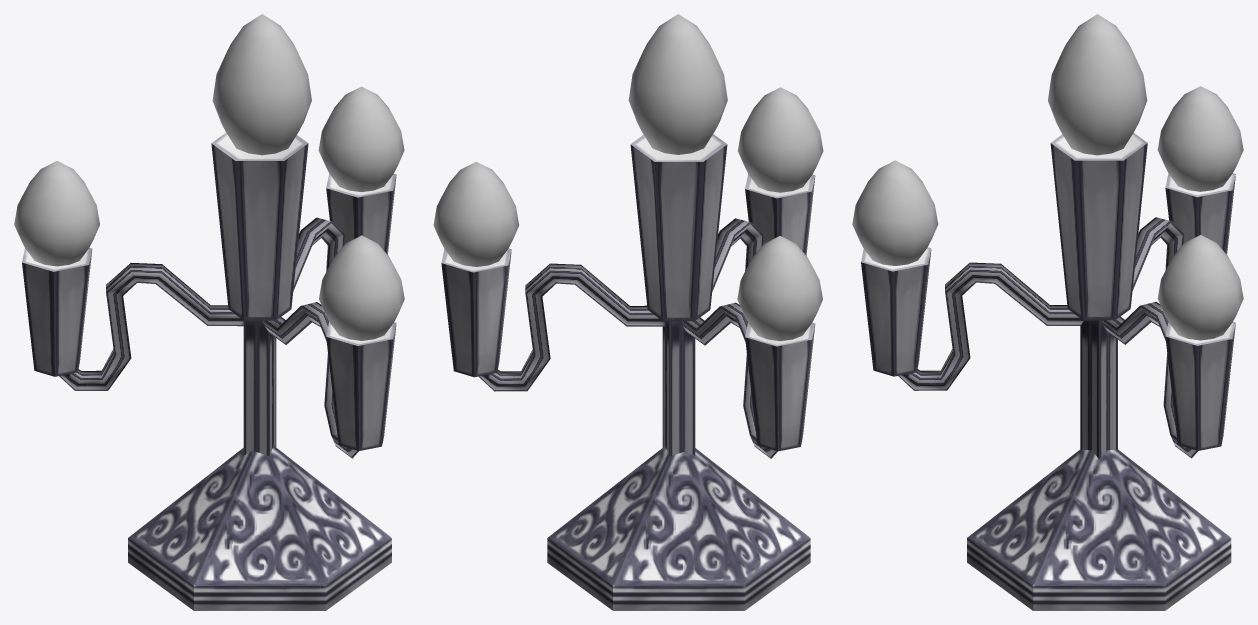
The model's file is NienteLamp_HD.fbx.
3 renders of one model, left to right at view 1: azimuth 30°, elevation 25°; view 2: azimuth 150°, elevation 25°; view 3: azimuth 270°, elevation 25°, orthographic.
Visible parts, largest first — view 1: NienteLamp; view 2: NienteLamp; view 3: NienteLamp.
Part boxes in pixels (bbox=[...]): NienteLamp: bbox=[14, 14, 404, 610]; NienteLamp: bbox=[433, 14, 823, 610]; NienteLamp: bbox=[852, 14, 1243, 610].
Size of the model in its own units: 0.6418 by 0.8841 by 0.5708.
